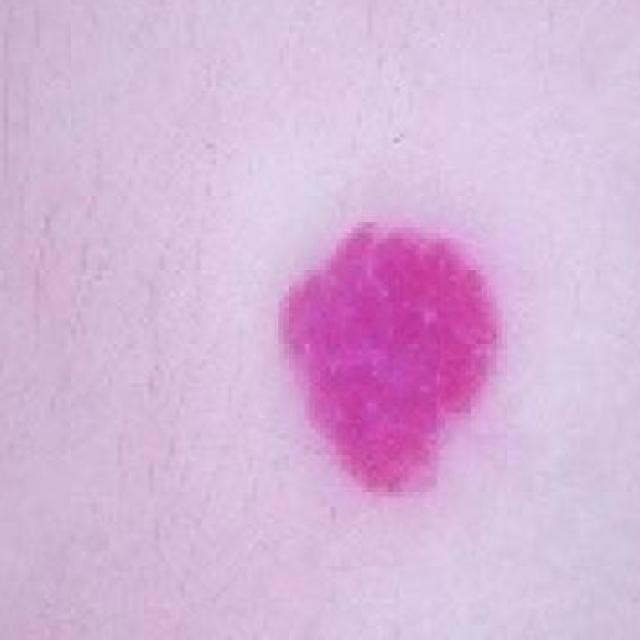VASC: (256, 150, 532, 545)
